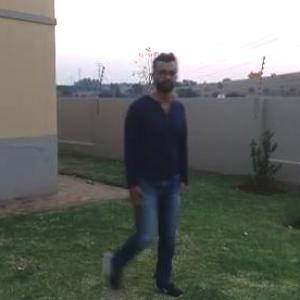follow: (98, 50, 190, 298)
